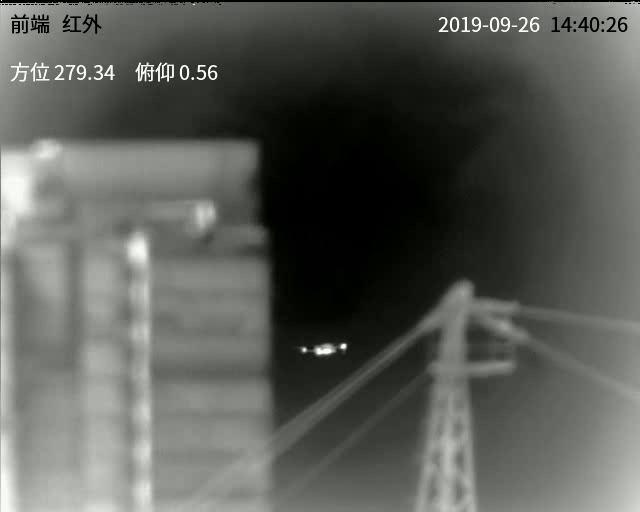DRONE: (299, 340, 349, 359)
